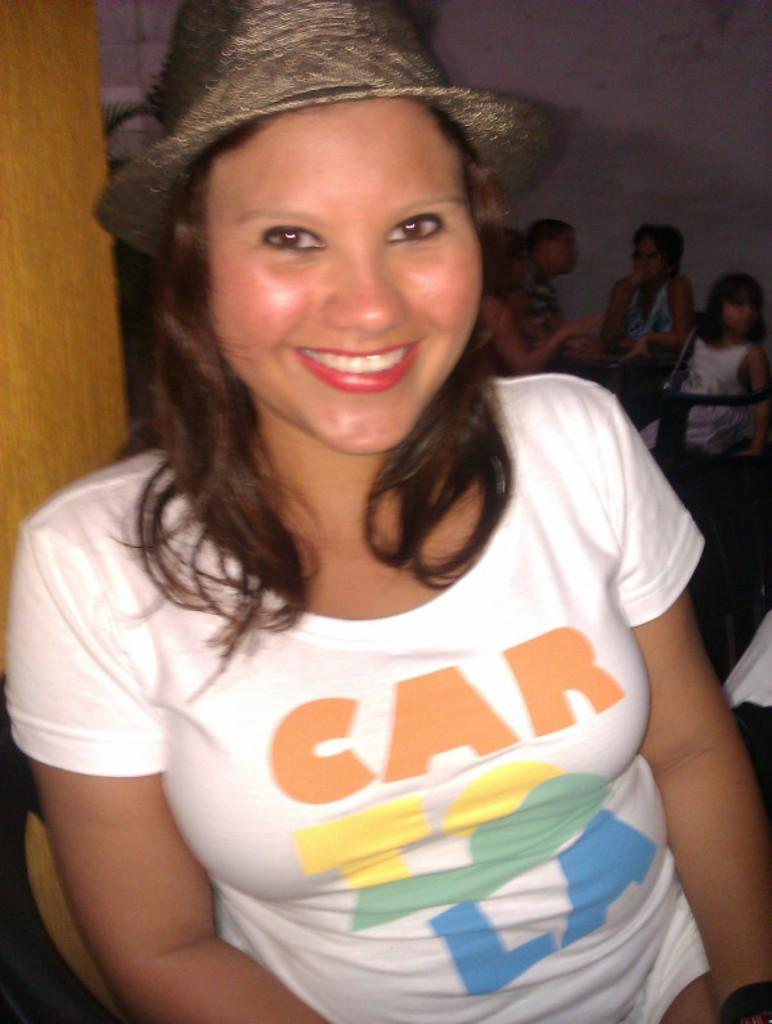Hat: (86, 0, 554, 257)
